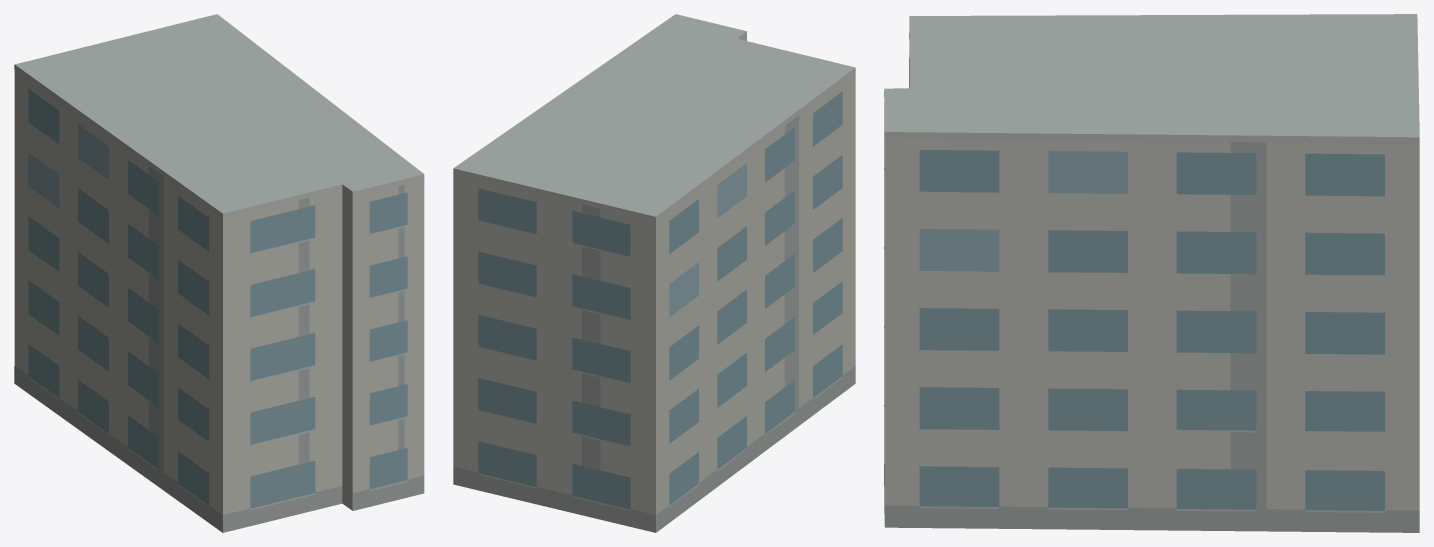
Rendered from survey-upis-32641242.glb.
3 views of the same model, side by side, from view 1: azimuth 30°, elevation 25°; view 2: azimuth 150°, elevation 25°; view 3: azimuth 270°, elevation 25° (orthographic). The views are drawn at different scales.
Parts seen in each view (by area): view 1: survey-upis-32641242.tmp; view 2: survey-upis-32641242.tmp; view 3: survey-upis-32641242.tmp.
Boxes of the visible parts, x1,y1,x2,y2 form: survey-upis-32641242.tmp: (14,14,424,532); survey-upis-32641242.tmp: (453,14,855,532); survey-upis-32641242.tmp: (884,14,1419,532).
Size of the model in its own units: 9.69 by 14.5 by 17.8.
